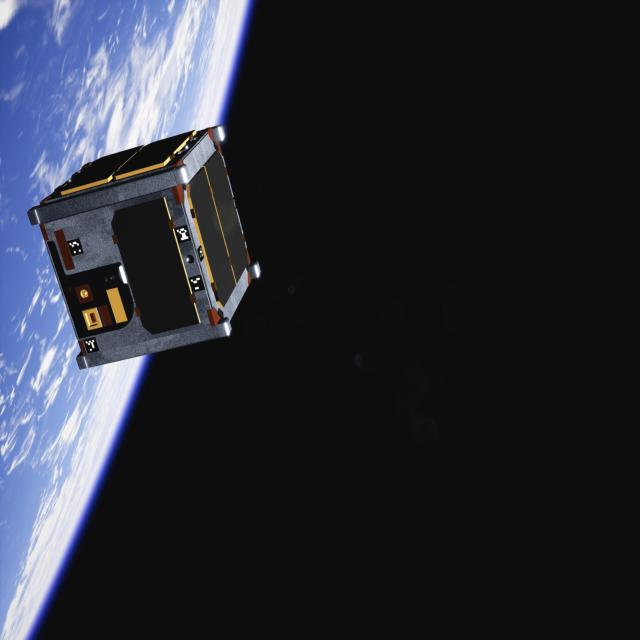medium_debris: (23, 122, 265, 369)
